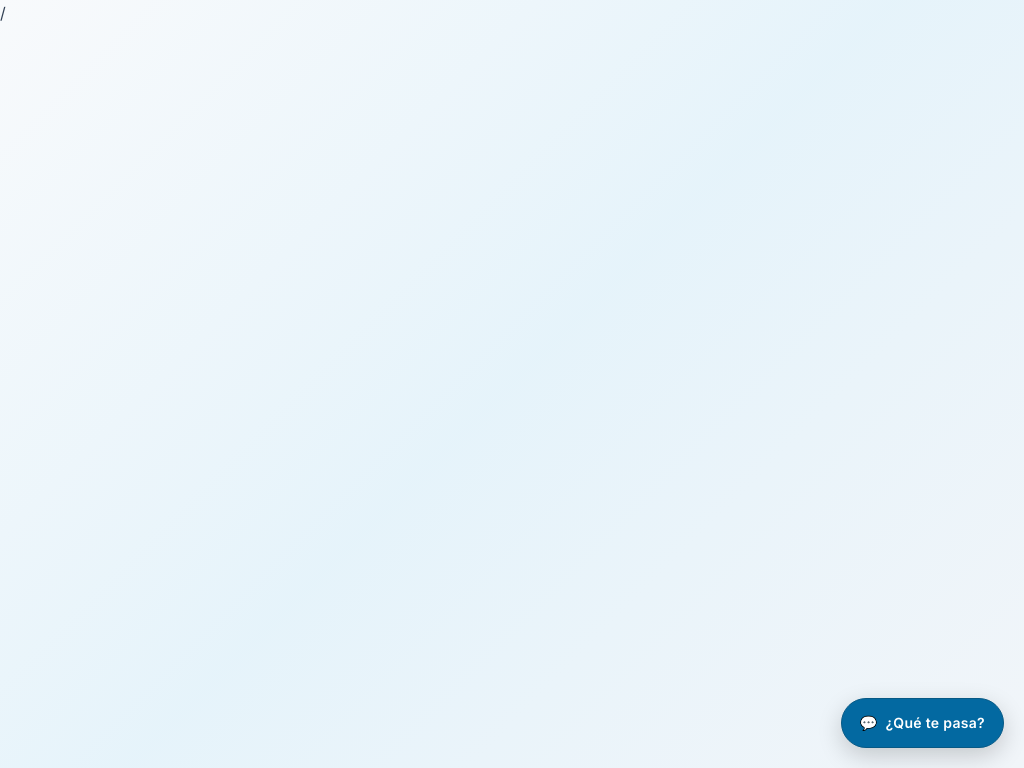
Test: AsistenteSalud › manda el texto al orientador, muestra la sugerencia y lleva a Agendar con la especialidad
Click the button "💬 ¿Qué te pasa?" at (922, 723), box [841, 698, 1004, 748]
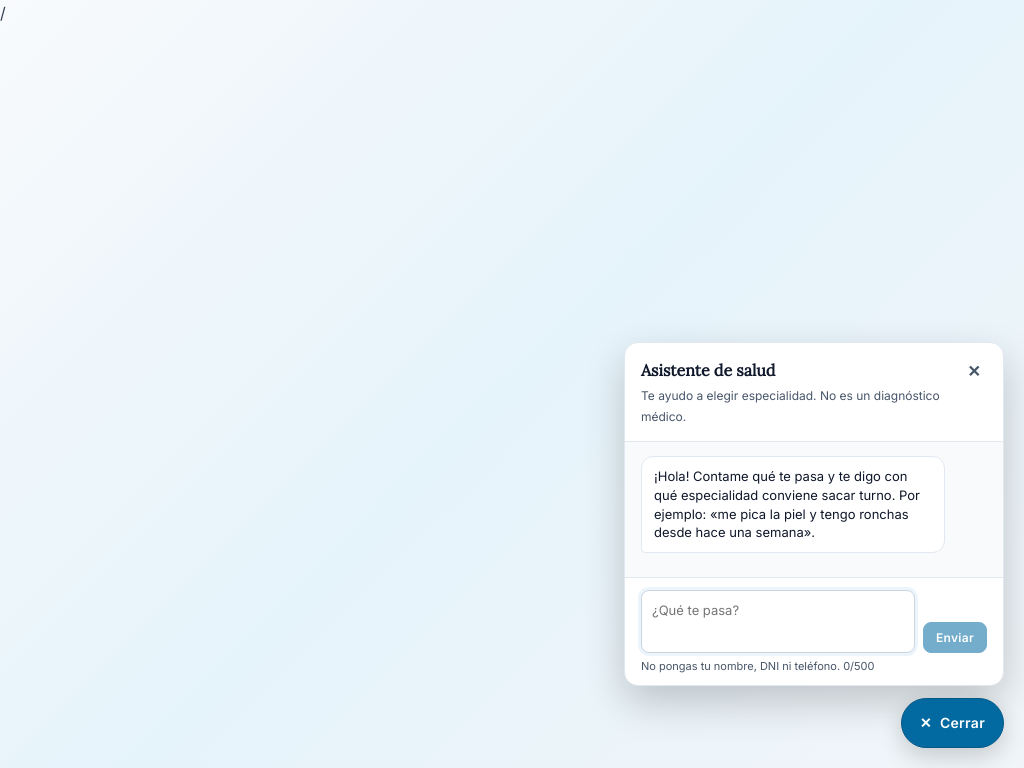
Type "Me pica la piel" into the text box named "Contanos qué te pasa" at (778, 621), box [641, 590, 915, 652]
Then press Enter
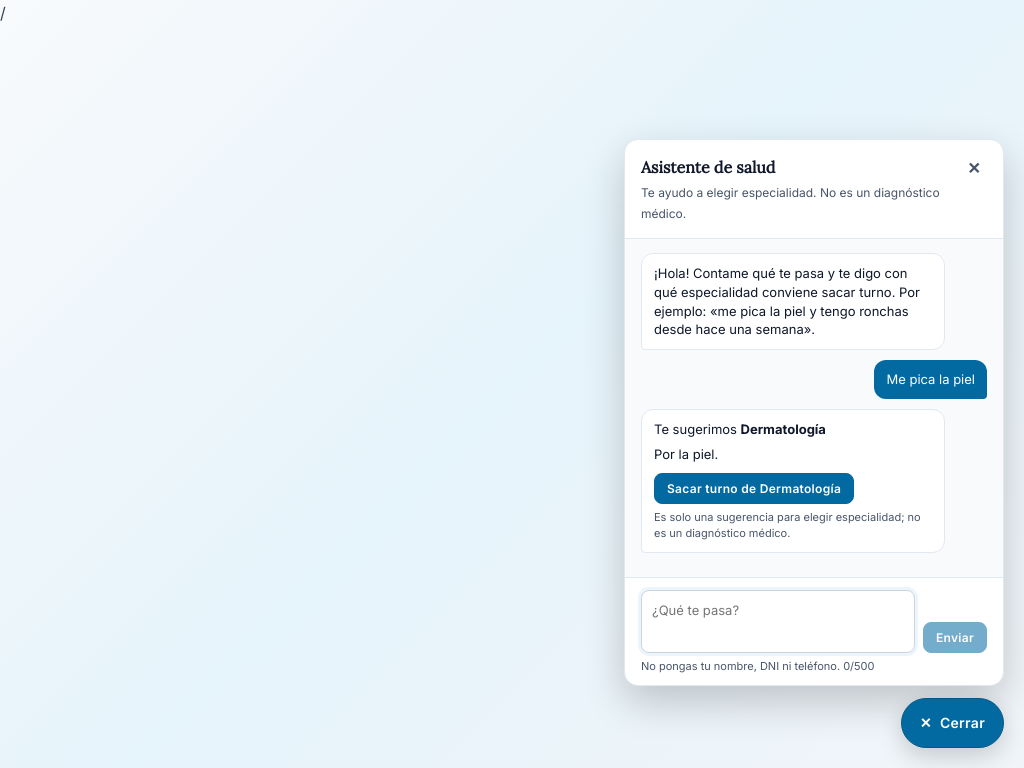
expect the element named "Conversación con el asistente" shows "Me pica la piel": met, box [886, 371, 975, 387]
expect the text "Dermatología" is shown: met, box [741, 421, 826, 437]
expect the element named "Conversación con el asistente" shows "no es un diagnóstico": met, box [654, 510, 921, 540]
Click the button "Sacar turno de Dermatología" at (754, 489), box [654, 474, 854, 504]
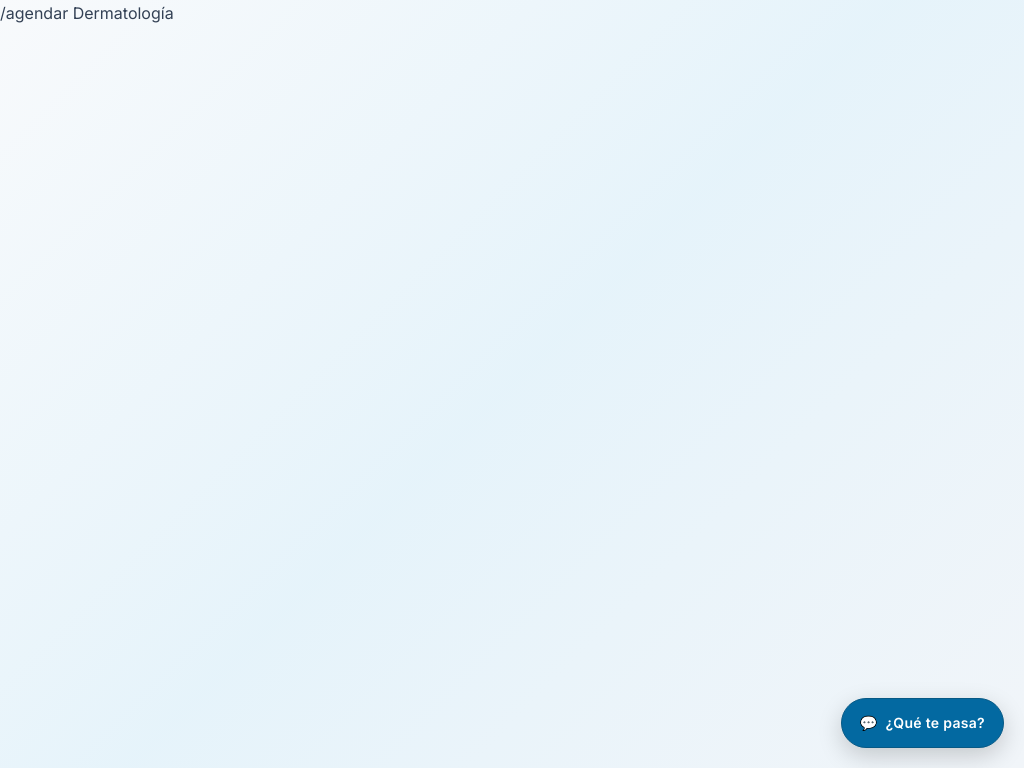
expect the text with test id "destino" reads "/agendar Dermatología": met, box [0, 3, 174, 23]
expect the dialog is gone: met
